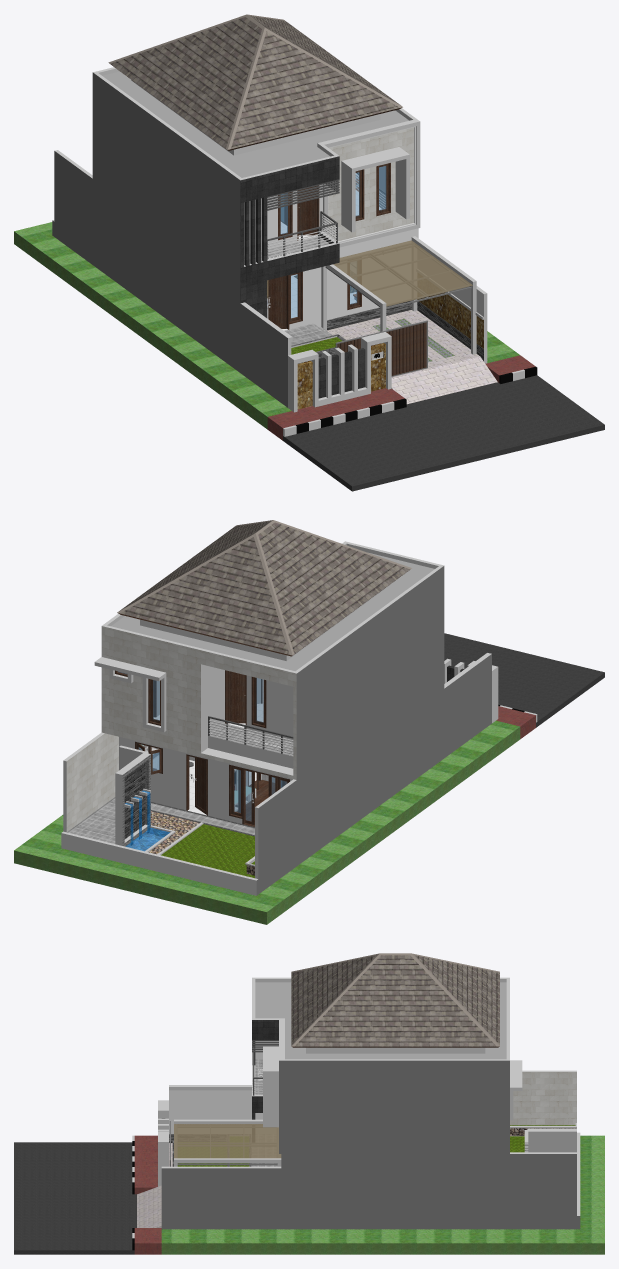
File: rumah3.glb
3 renders of one model, top to bottom at view 1: azimuth 30°, elevation 25°; view 2: azimuth 150°, elevation 25°; view 3: azimuth 270°, elevation 25°, orthographic. The views are drawn at different scales.
Parts seen in each view (by area): view 1: Material3 (×16), Material2 (×3), Material4 (×3); view 2: Material3 (×16), Material2 (×3), Material4; view 3: Material3 (×14), Material2 (×3), Material4 (×3).
Boxes of the visible parts, left/top/right/bottom form: Material3 (×16): left=14, top=14, right=604, bottom=491; Material2 (×3): left=52, top=71, right=472, bottom=407; Material4 (×3): left=244, top=126, right=497, bottom=404; Material3 (×16): left=14, top=520, right=604, bottom=924; Material2 (×3): left=111, top=552, right=491, bottom=895; Material4: left=67, top=723, right=293, bottom=843; Material3 (×14): left=14, top=953, right=604, bottom=1254; Material2 (×3): left=161, top=982, right=580, bottom=1229; Material4 (×3): left=137, top=1041, right=278, bottom=1227.
Size of the model in its own units: 408 by 433 by 945.
98 materials, 54 textured.
